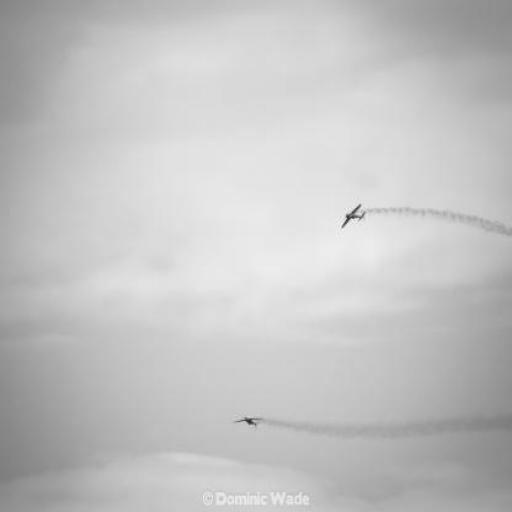aircraft: (332, 196, 367, 231), (225, 410, 265, 434)
